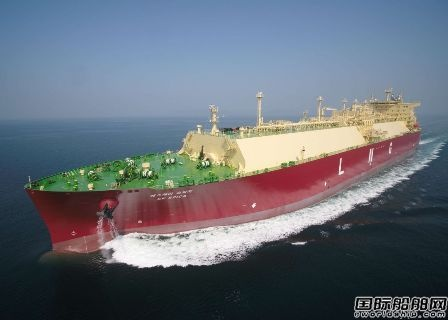Cargoship: (22, 83, 424, 258)
